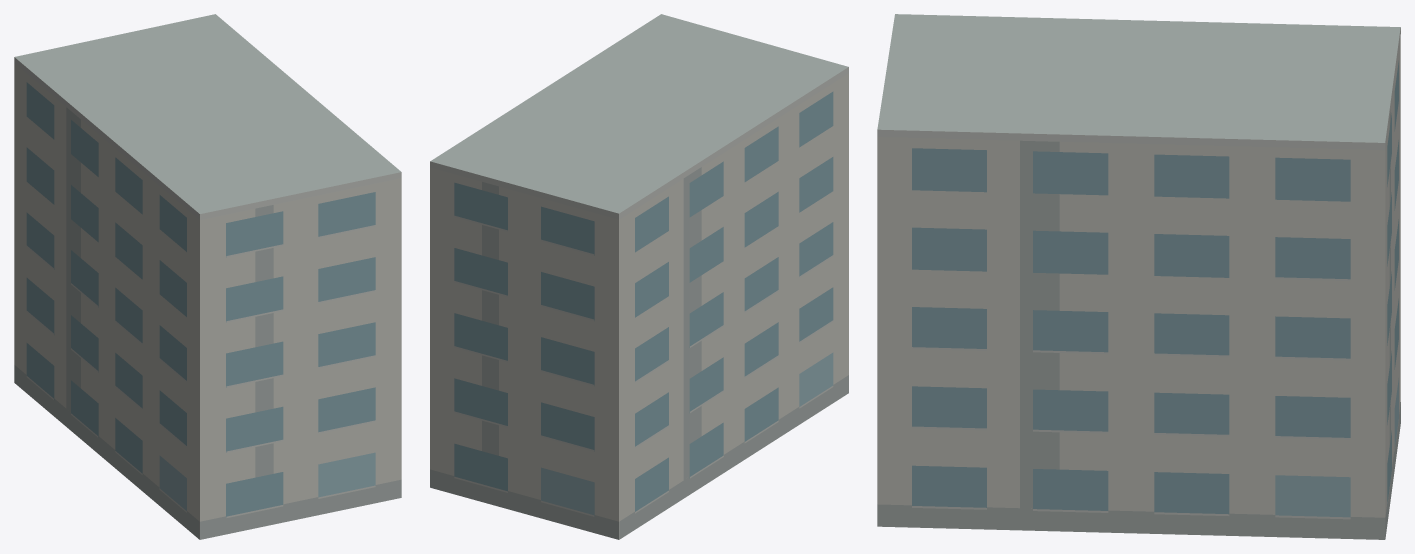
The model's file is survey-upis-32885313.glb.
3 views of the same model, side by side, from view 1: azimuth 30°, elevation 25°; view 2: azimuth 150°, elevation 25°; view 3: azimuth 270°, elevation 25° (orthographic). The views are drawn at different scales.
Parts seen in each view (by area): view 1: survey-upis-32885313.tmp; view 2: survey-upis-32885313.tmp; view 3: survey-upis-32885313.tmp.
Boxes of the visible parts, x1,y1,x2,y2 form: survey-upis-32885313.tmp: (14,14,401,539); survey-upis-32885313.tmp: (430,14,848,539); survey-upis-32885313.tmp: (877,14,1400,539).
Bounding box in the file's own units: 9.21 × 13.2 × 15.79.
